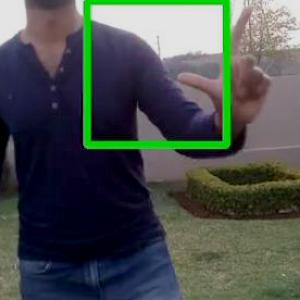land_hand: (174, 2, 278, 123)
